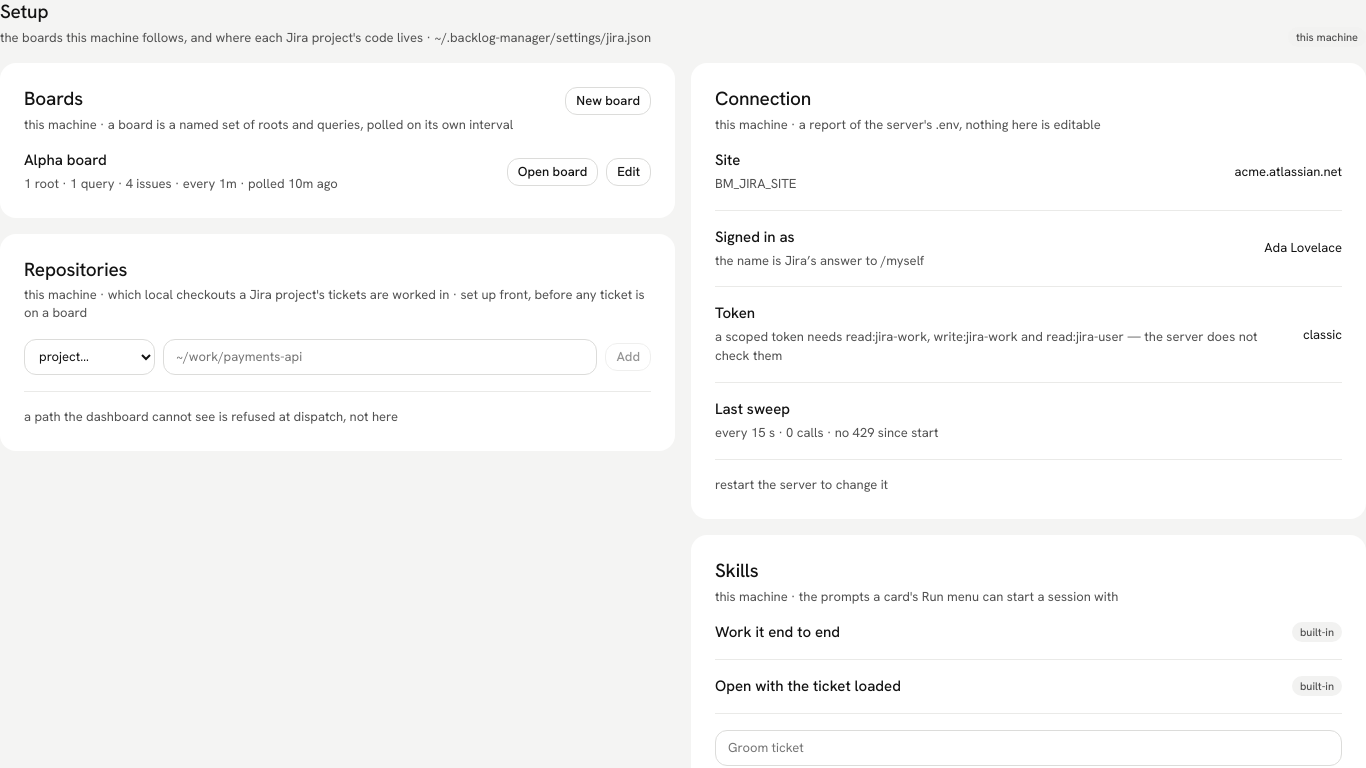
the board sheet — new › a search error shows under the field
Expected: the heading "Boards" is shown, 24,86 -> 83,111
Click the button "New board" at (608, 101), box 565,87 -> 651,115
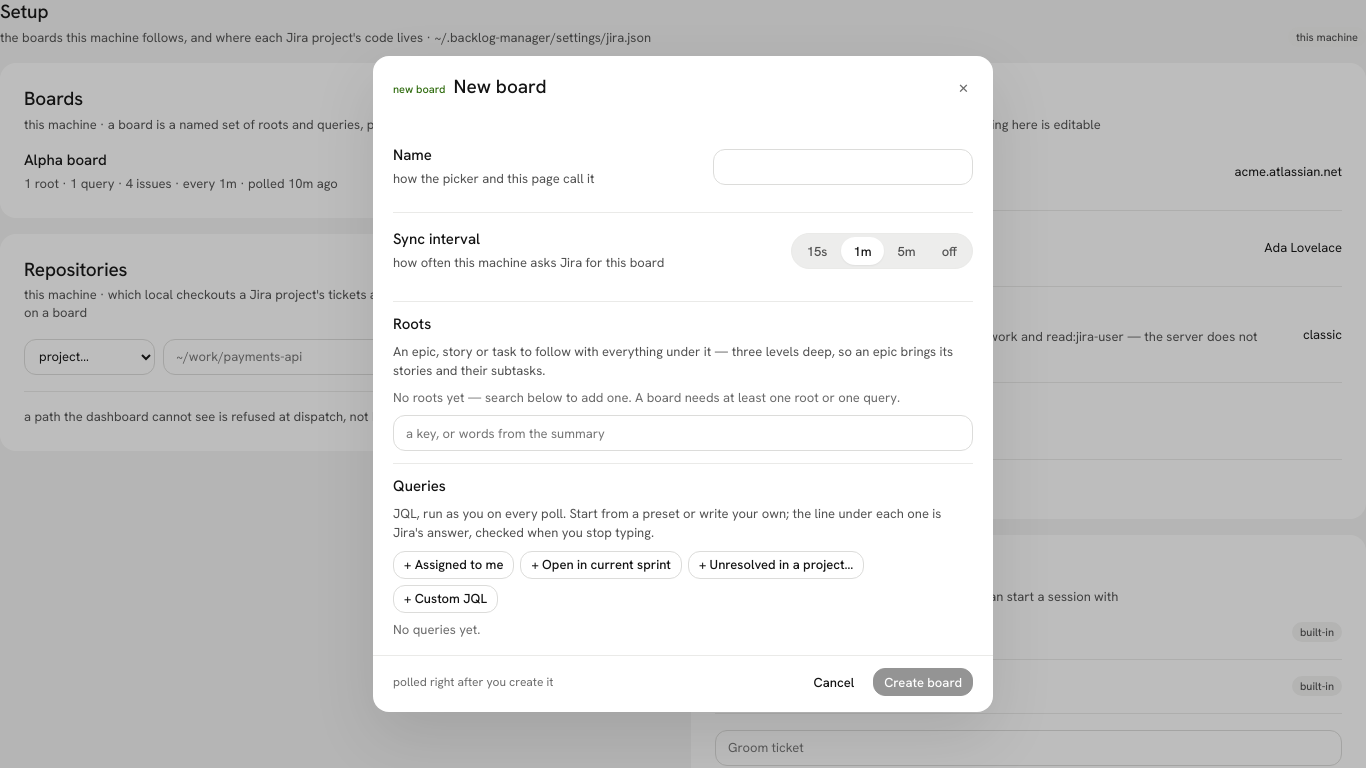
Type "pa[ [y" into the field named "Search issues" at (683, 433), box 393,415 -> 973,451
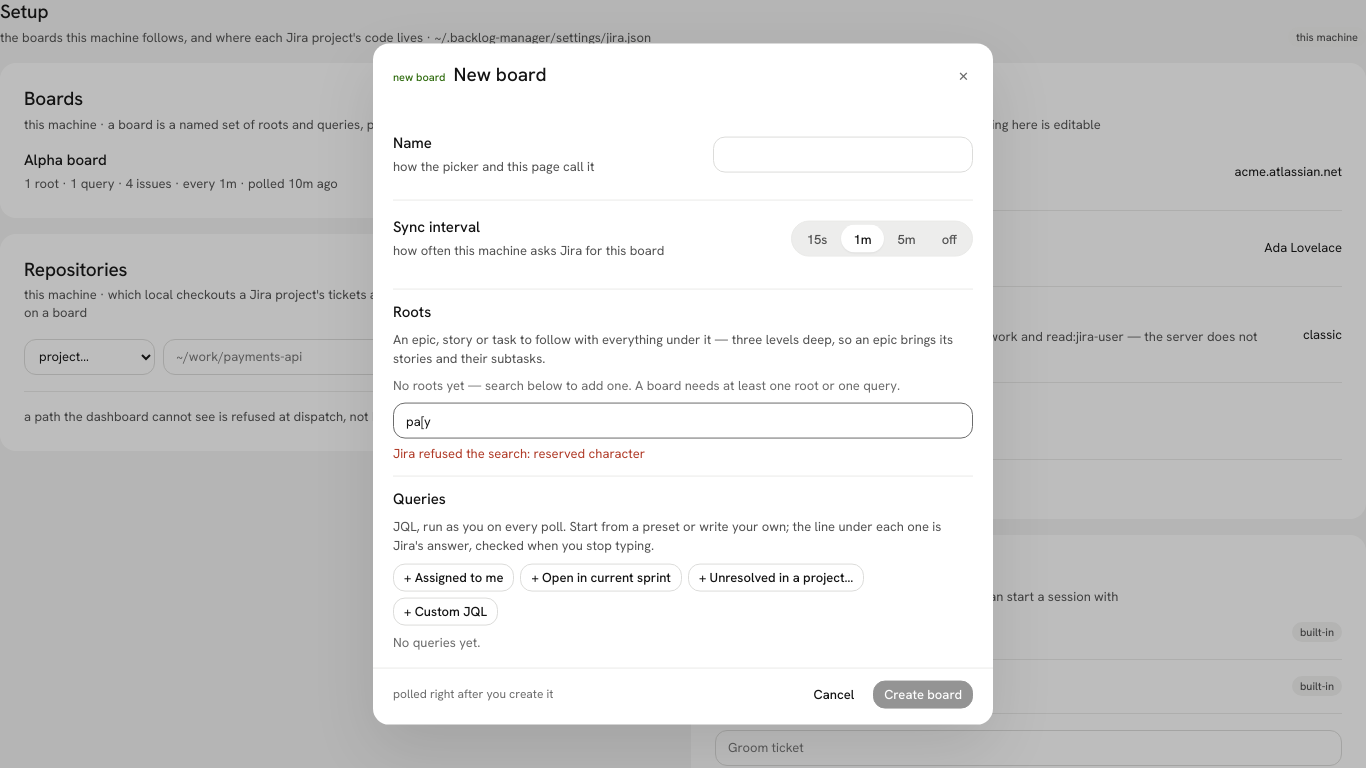
Result: the text "Jira refused the search: reserved character" is shown at 393,445 -> 645,462
